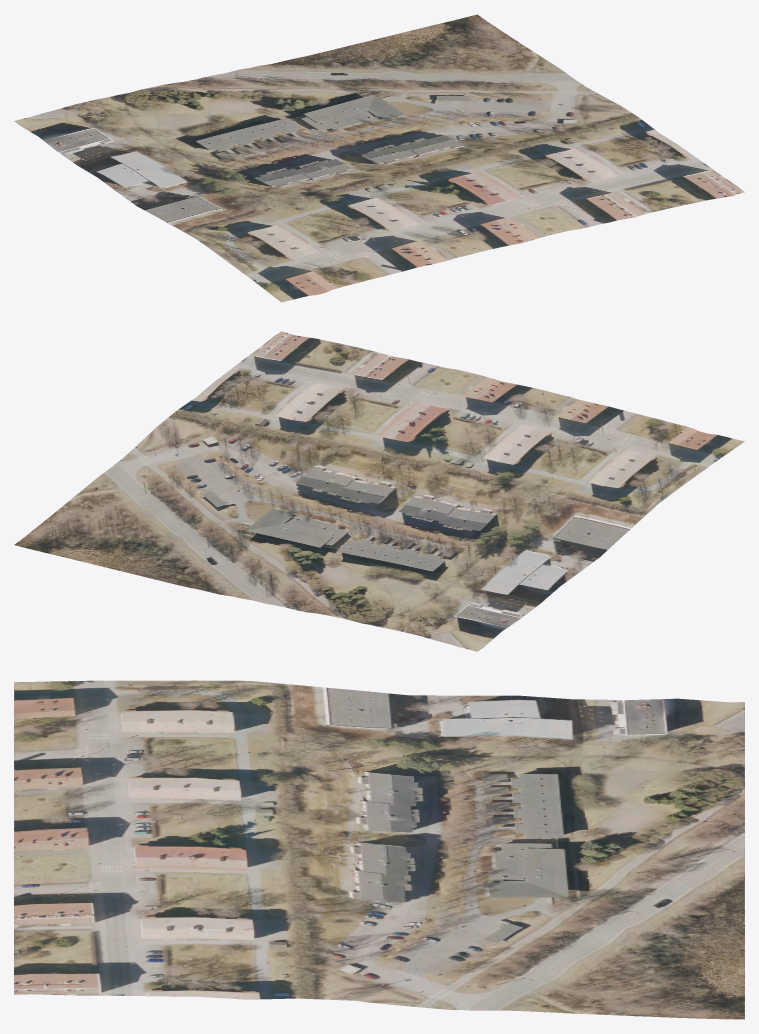
File: CM_Terrain_24489639_6818975.fbx
3 renders of one model, top to bottom at view 1: azimuth 30°, elevation 25°; view 2: azimuth 150°, elevation 25°; view 3: azimuth 270°, elevation 25°, orthographic. The views are drawn at different scales.
Parts seen in each view (by area): view 1: CM_Terrain_24489639_6818975_LOD0; view 2: CM_Terrain_24489639_6818975_LOD0; view 3: CM_Terrain_24489639_6818975_LOD0.
Part boxes in pixels (bbox=[...]): CM_Terrain_24489639_6818975_LOD0: bbox=[14, 14, 744, 302]; CM_Terrain_24489639_6818975_LOD0: bbox=[14, 331, 744, 651]; CM_Terrain_24489639_6818975_LOD0: bbox=[14, 680, 744, 1019].
Size of what is drawn, in the model's own units: 205 by 10.47 by 205.
